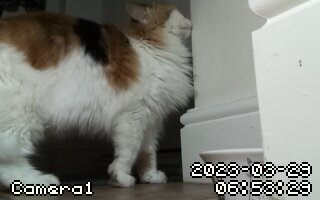clara: (2, 11, 204, 188)
